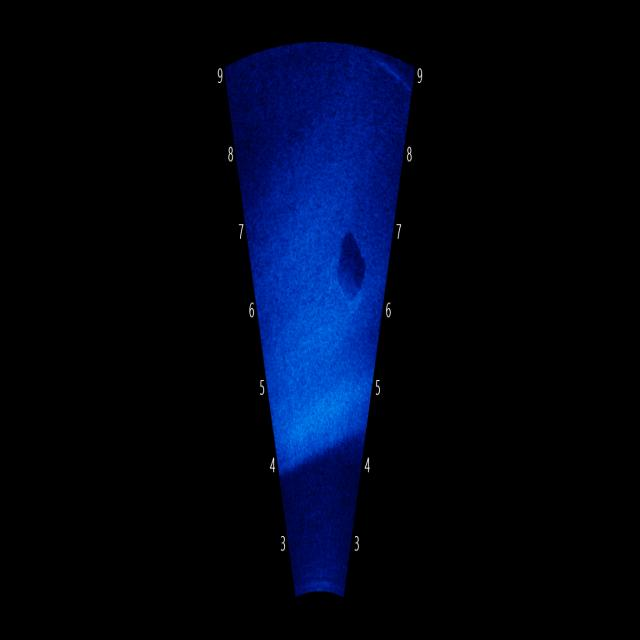circle: (338, 255, 364, 306)
